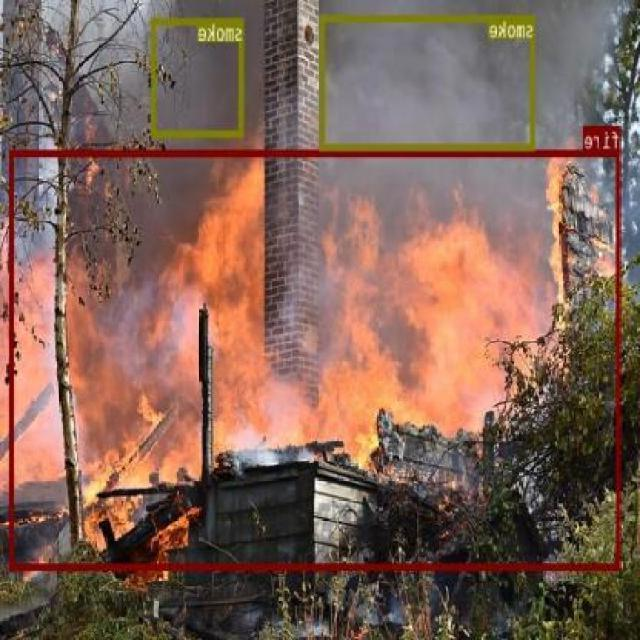Fire: (25, 158, 622, 566)
Smoke: (273, 0, 625, 317), (74, 0, 262, 373), (112, 334, 358, 468)
